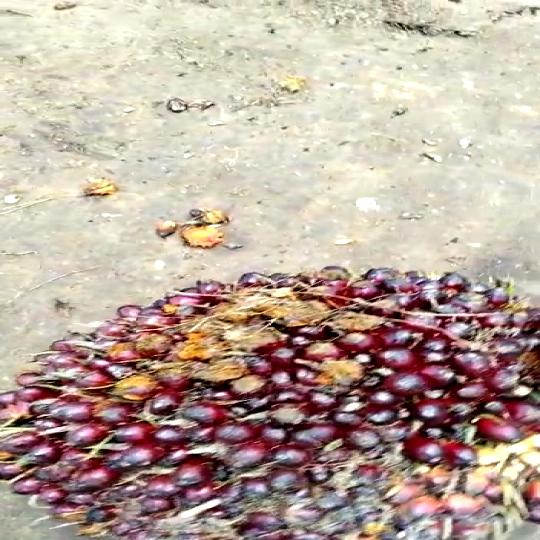kurang masak: (12, 266, 540, 540)
